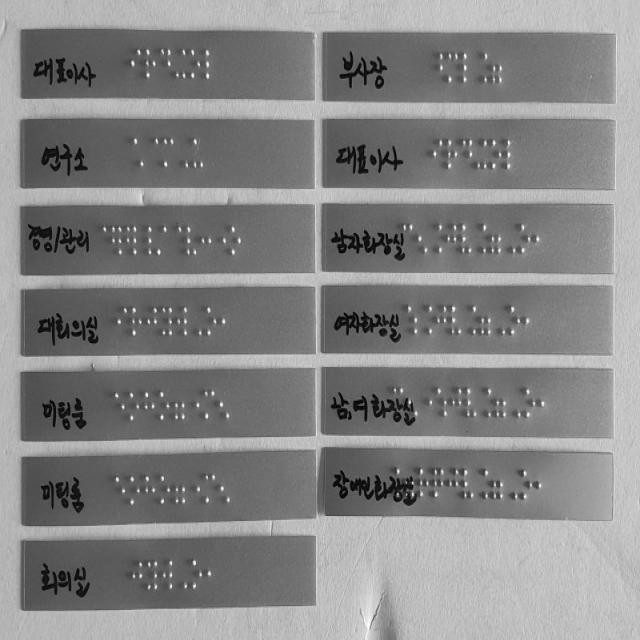braiile: (141, 223, 168, 257), (460, 51, 477, 86), (160, 559, 177, 593), (130, 559, 146, 595), (205, 556, 221, 592), (405, 303, 421, 339), (523, 304, 539, 340), (420, 384, 436, 420), (464, 385, 480, 421), (538, 385, 554, 421), (533, 220, 548, 258), (176, 137, 192, 172), (113, 390, 129, 425), (516, 221, 532, 256), (506, 303, 522, 338), (492, 385, 508, 420), (522, 385, 538, 420), (504, 468, 520, 503), (127, 46, 143, 80), (198, 224, 214, 258), (172, 474, 188, 508), (187, 473, 203, 507), (202, 473, 218, 507), (430, 52, 446, 86), (474, 50, 490, 84), (488, 138, 504, 172), (448, 304, 464, 338), (490, 468, 506, 502), (429, 222, 444, 258), (536, 468, 551, 504), (449, 384, 463, 422), (504, 137, 520, 170), (131, 135, 146, 170), (172, 389, 187, 424), (489, 51, 504, 86), (478, 385, 493, 420), (507, 386, 522, 421), (520, 468, 535, 503), (474, 138, 490, 170), (203, 48, 218, 82), (191, 136, 206, 170), (228, 223, 243, 257), (174, 306, 189, 340), (190, 305, 205, 339), (217, 388, 232, 422), (218, 472, 233, 506), (430, 138, 445, 172), (461, 467, 476, 501), (147, 136, 161, 172), (420, 303, 434, 339), (434, 385, 448, 421), (446, 466, 460, 502), (161, 137, 176, 170), (109, 225, 124, 258), (128, 390, 143, 423), (203, 388, 218, 421), (114, 475, 129, 508), (460, 223, 475, 256), (473, 223, 488, 256), (417, 467, 432, 500), (188, 388, 202, 423), (176, 558, 190, 593), (464, 303, 478, 338), (459, 137, 474, 169), (503, 224, 518, 256), (159, 46, 173, 80), (173, 47, 187, 81), (188, 47, 202, 81), (214, 224, 228, 258), (158, 389, 172, 423), (145, 558, 159, 592), (190, 558, 204, 592), (445, 52, 459, 86), (401, 222, 415, 256), (416, 222, 430, 256), (433, 304, 447, 338), (124, 225, 139, 256), (144, 47, 158, 80), (168, 224, 182, 257), (130, 306, 144, 339), (145, 306, 159, 339), (160, 306, 174, 339), (144, 474, 158, 507), (158, 474, 172, 507), (445, 224, 459, 257), (488, 223, 502, 256), (479, 304, 493, 337), (432, 466, 446, 499), (184, 224, 198, 256), (205, 306, 219, 338), (220, 306, 234, 338), (144, 390, 158, 422), (128, 476, 142, 508), (475, 467, 489, 499), (95, 224, 108, 258), (493, 305, 507, 336), (116, 306, 129, 339), (446, 138, 459, 171)
